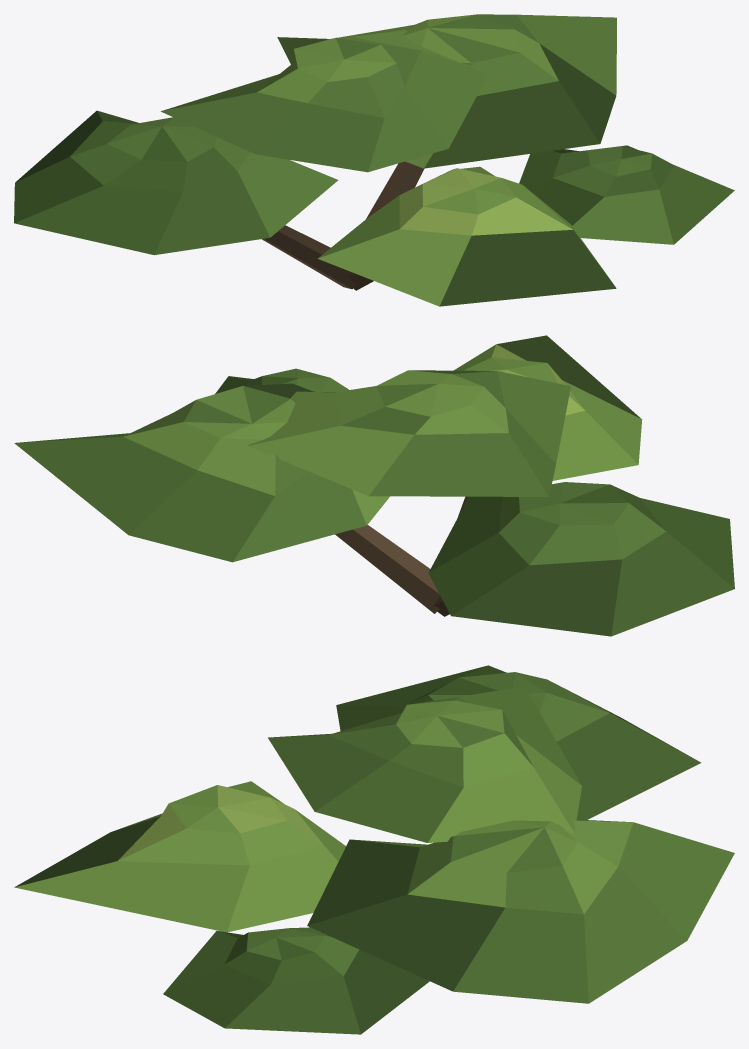
The model's file is bush-a.glb.
3 renders of one model, top to bottom at view 1: azimuth 30°, elevation 25°; view 2: azimuth 150°, elevation 25°; view 3: azimuth 270°, elevation 25°, orthographic. The views are drawn at different scales.
Parts seen in each view (by area): view 1: Bush_A; view 2: Bush_A; view 3: Bush_A.
Boxes of the visible parts, x1,y1,x2,y2 form: Bush_A: (14, 14, 734, 306); Bush_A: (14, 335, 734, 636); Bush_A: (14, 665, 734, 1034).
Bounding box in the file's own units: 1.83 × 0.6113 × 1.57.
Materials: 1 (1 with a texture image).
